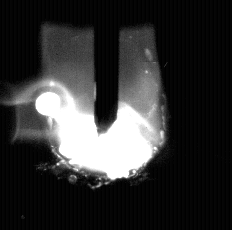arame: (96, 0, 119, 138)
poca: (47, 0, 166, 230)
